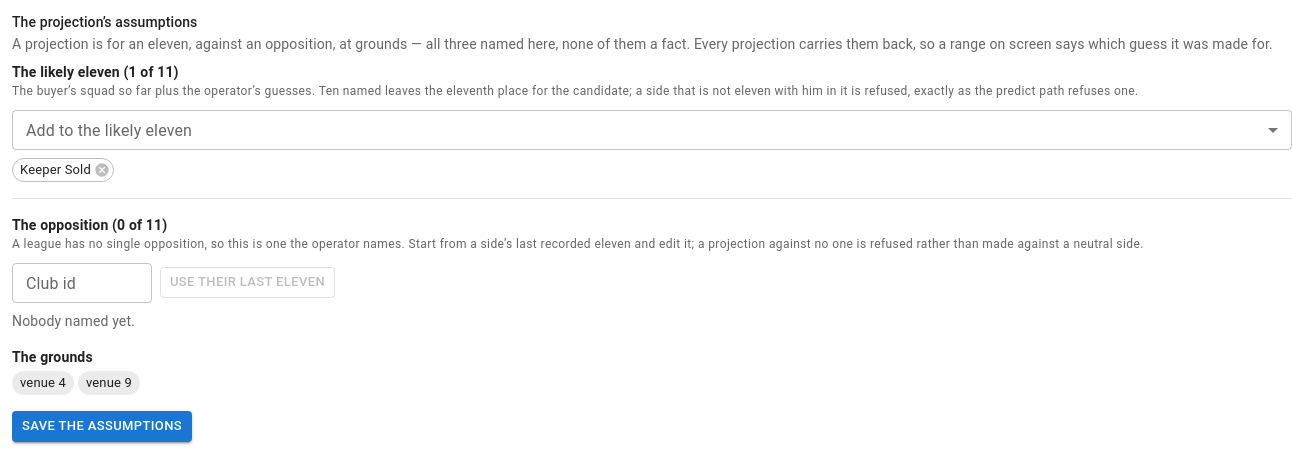
Test case: AuctionAssumptions › adds a listed player to the likely eleven and takes one back out
Click the dropdown named "Add to the likely eleven".
click(652, 130)  # box 12,110 -> 1291,150
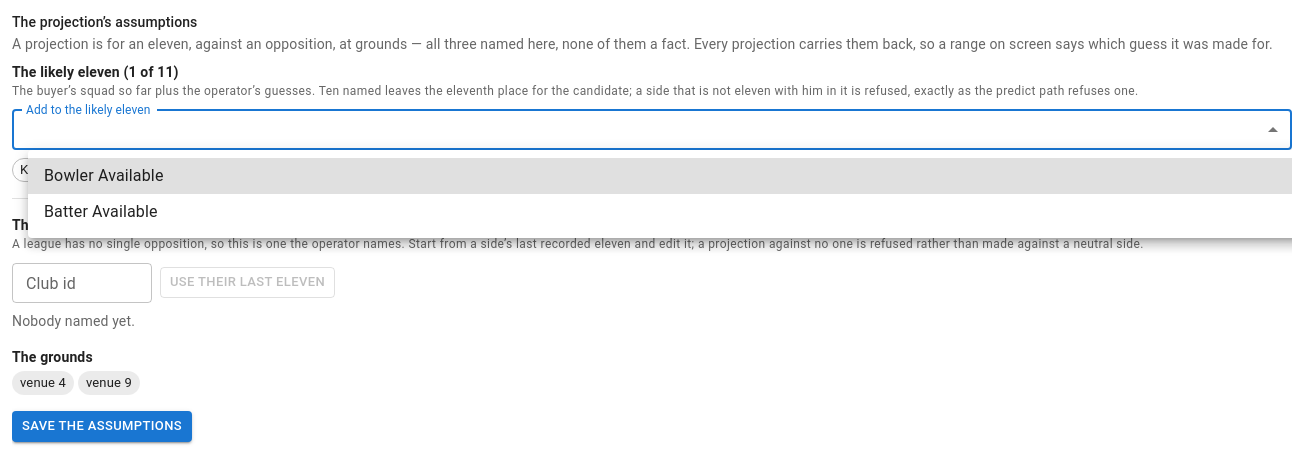
Click the option "Bowler Available".
click(104, 176)  # box 28,158 -> 1291,194
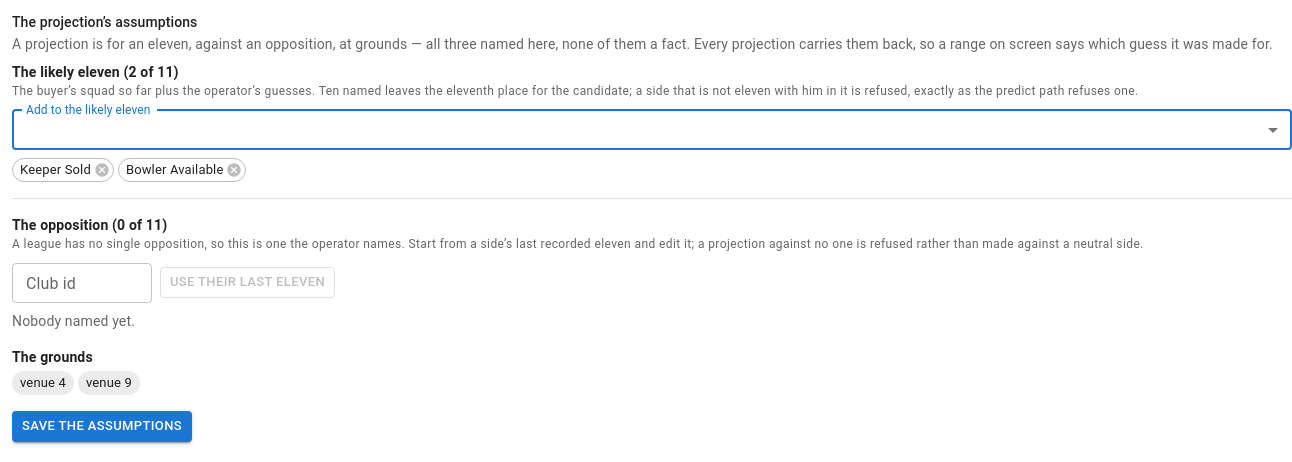
Result: the text "Bowler Available" is shown at 119,160 -> 230,180
Result: the text "The likely eleven (2 of 11)" is shown at 12,64 -> 179,80
Click the 2nd icon with test id "CancelIcon".
click(234, 170)  # box 226,162 -> 242,178
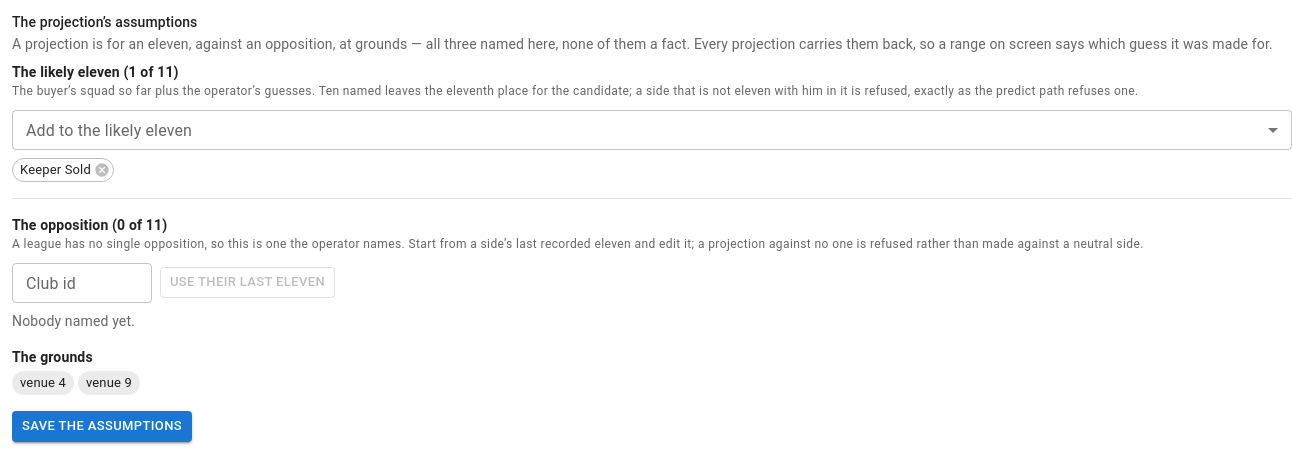
Result: the text "The likely eleven (1 of 11)" is shown at 12,64 -> 179,80
